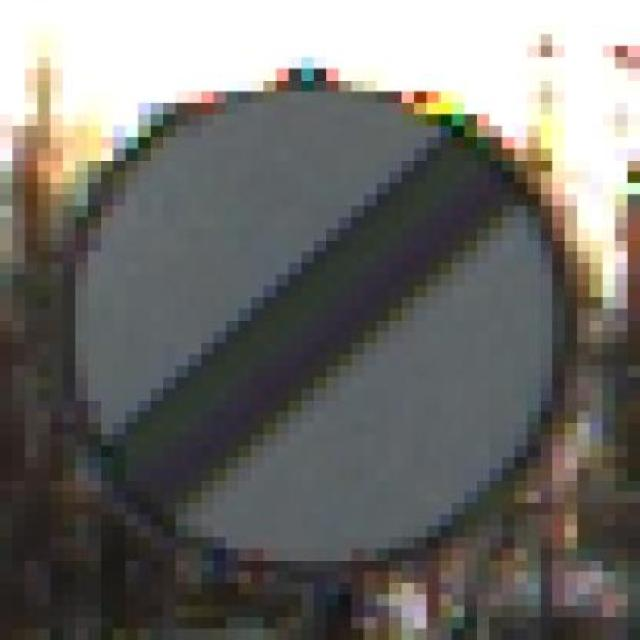End of all speed and passing limits: (62, 57, 590, 594)
